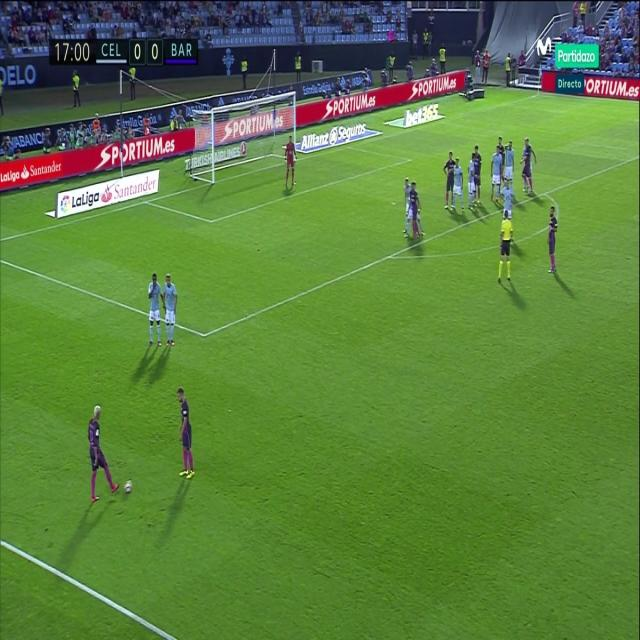Ball: (123, 475, 134, 498)
Goalkeeper: (282, 132, 298, 192)
Player: (85, 402, 120, 505), (175, 387, 196, 483), (160, 274, 182, 351), (145, 272, 162, 351), (520, 138, 538, 200), (488, 146, 503, 210), (453, 156, 467, 217), (408, 182, 421, 241), (442, 150, 454, 213), (548, 205, 558, 277), (472, 143, 482, 203), (503, 136, 516, 180), (469, 154, 478, 214), (500, 178, 514, 212), (403, 174, 410, 237)
Referee: (497, 209, 516, 290)
